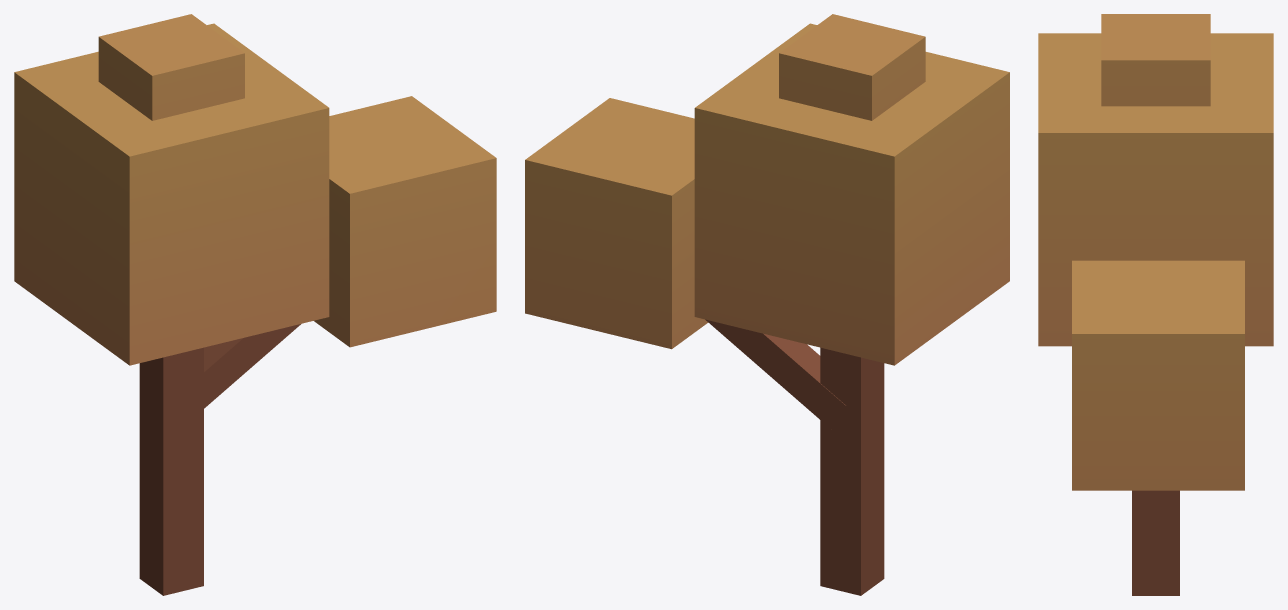
The model's file is Tree_48_gradient_yellow_vc.fbx.
The picture shows the model from 3 angles, left to right: view 1: azimuth 30°, elevation 25°; view 2: azimuth 150°, elevation 25°; view 3: azimuth 270°, elevation 25°; orthographic projection. The views are drawn at different scales.
Parts seen in each view (by area): view 1: Tree_48_gradient_yellow_vc; view 2: Tree_48_gradient_yellow_vc; view 3: Tree_48_gradient_yellow_vc.
Part boxes in pixels (x1=…): Tree_48_gradient_yellow_vc: x1=14, y1=14, x2=496, y2=595; Tree_48_gradient_yellow_vc: x1=525, y1=14, x2=1009, y2=595; Tree_48_gradient_yellow_vc: x1=1038, y1=14, x2=1273, y2=595.
Size of the model in its own units: 140 by 187 by 72.7.
